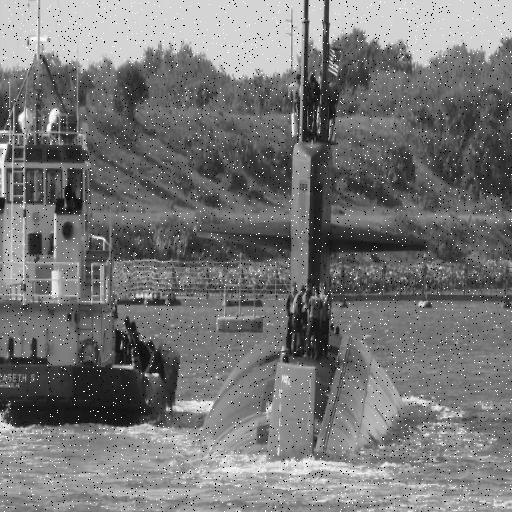submarine: (202, 135, 414, 463)
